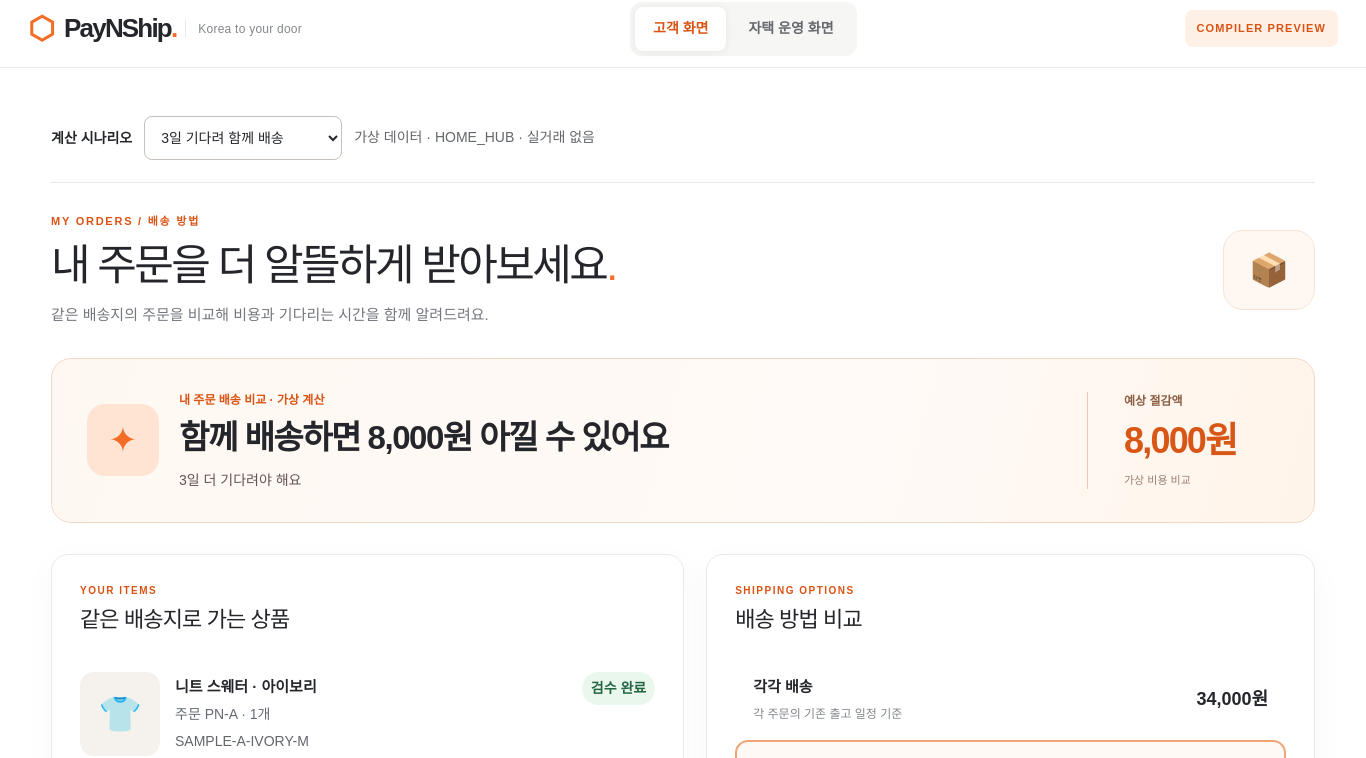
Scenario: compiler-driven preview › shows partial grouping and its calculation in the operator view
Step 1. Select "늦는 상품은 따로 배송" in the dropdown labelled "계산 시나리오" → [243, 138], box x1=144 y1=116 x2=342 y2=160
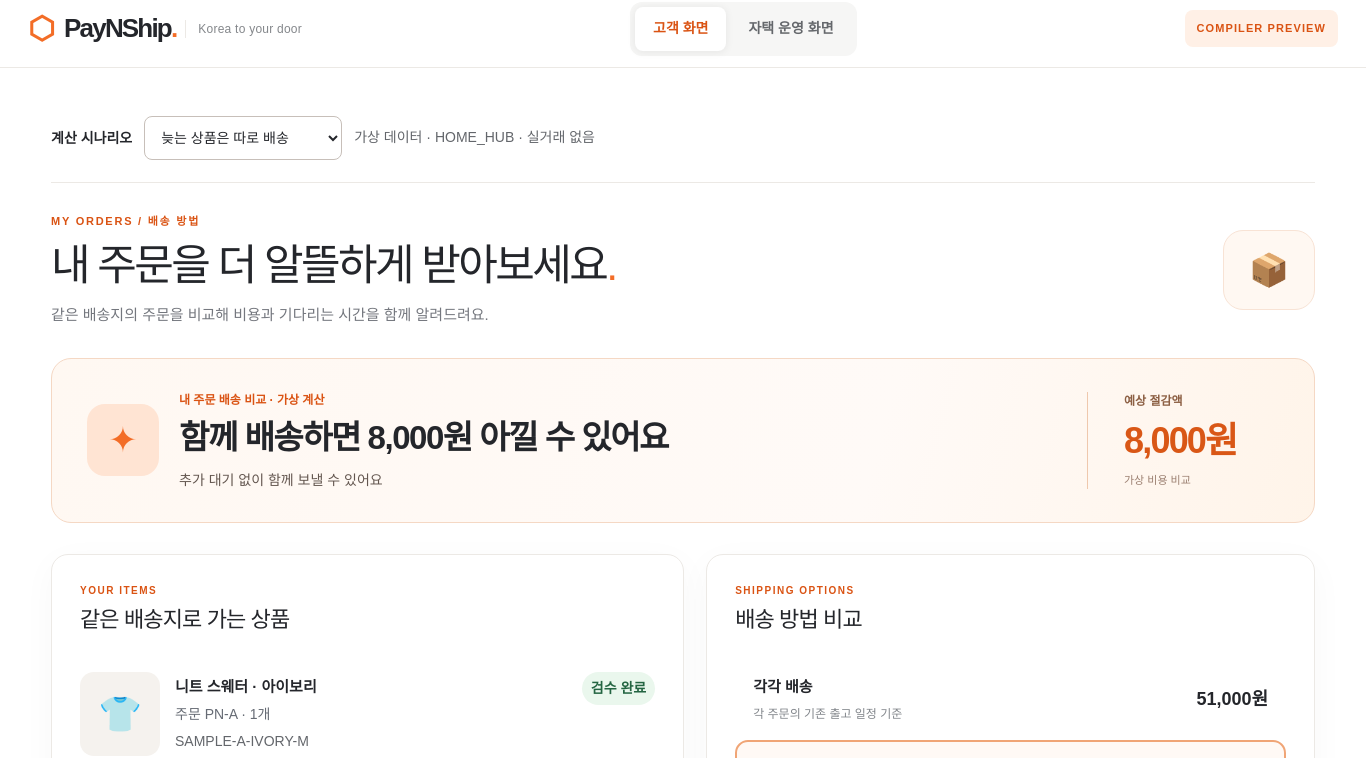
Step 2. Click the button "자택 운영 화면" → [791, 28], box x1=730 y1=6 x2=852 y2=50
(page scrolled)
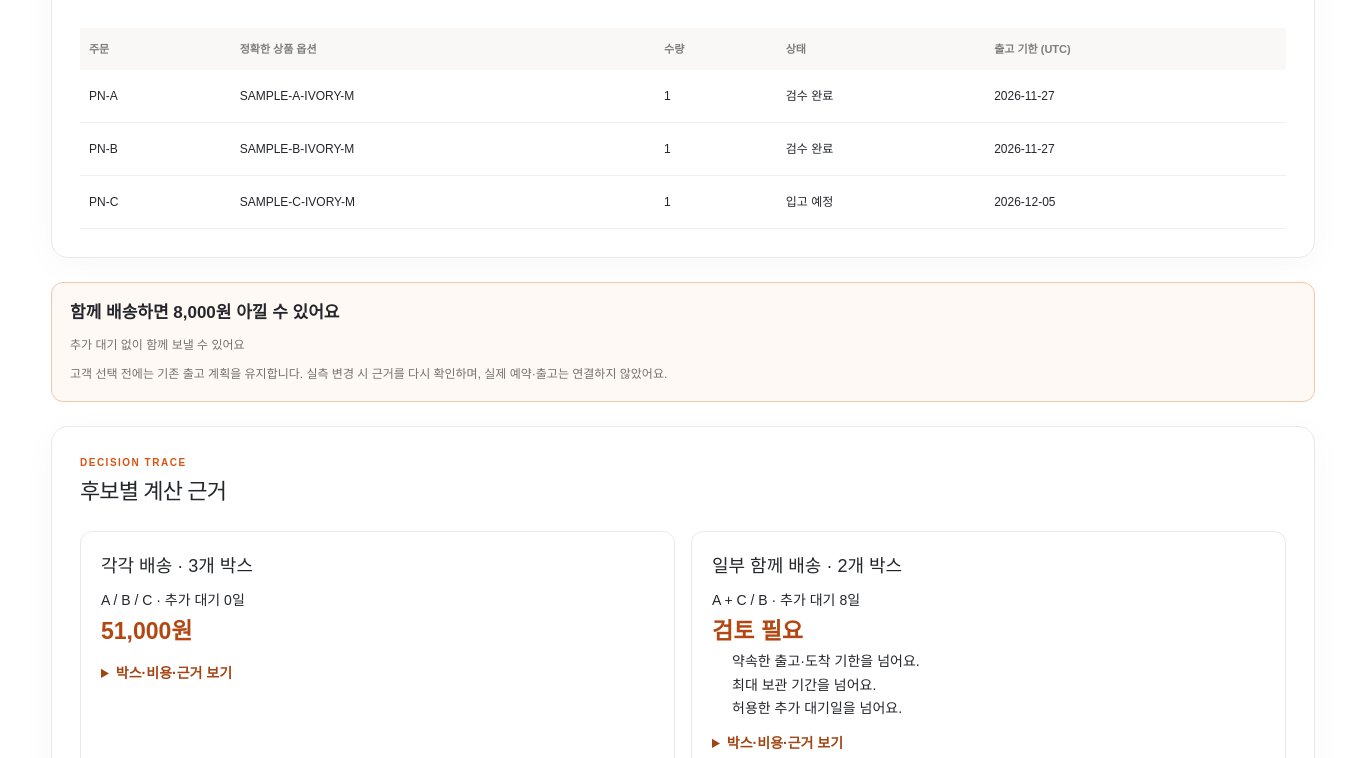
Result: the heading "후보별 계산 근거" is shown at x1=80 y1=479 x2=226 y2=504
Result: the heading "일부 함께 배송 · 2개 박스" is shown at x1=712 y1=556 x2=902 y2=576
Result: the text "고객 선택 전에는 기존 출고 계획을 유지" is shown at x1=70 y1=367 x2=667 y2=381
